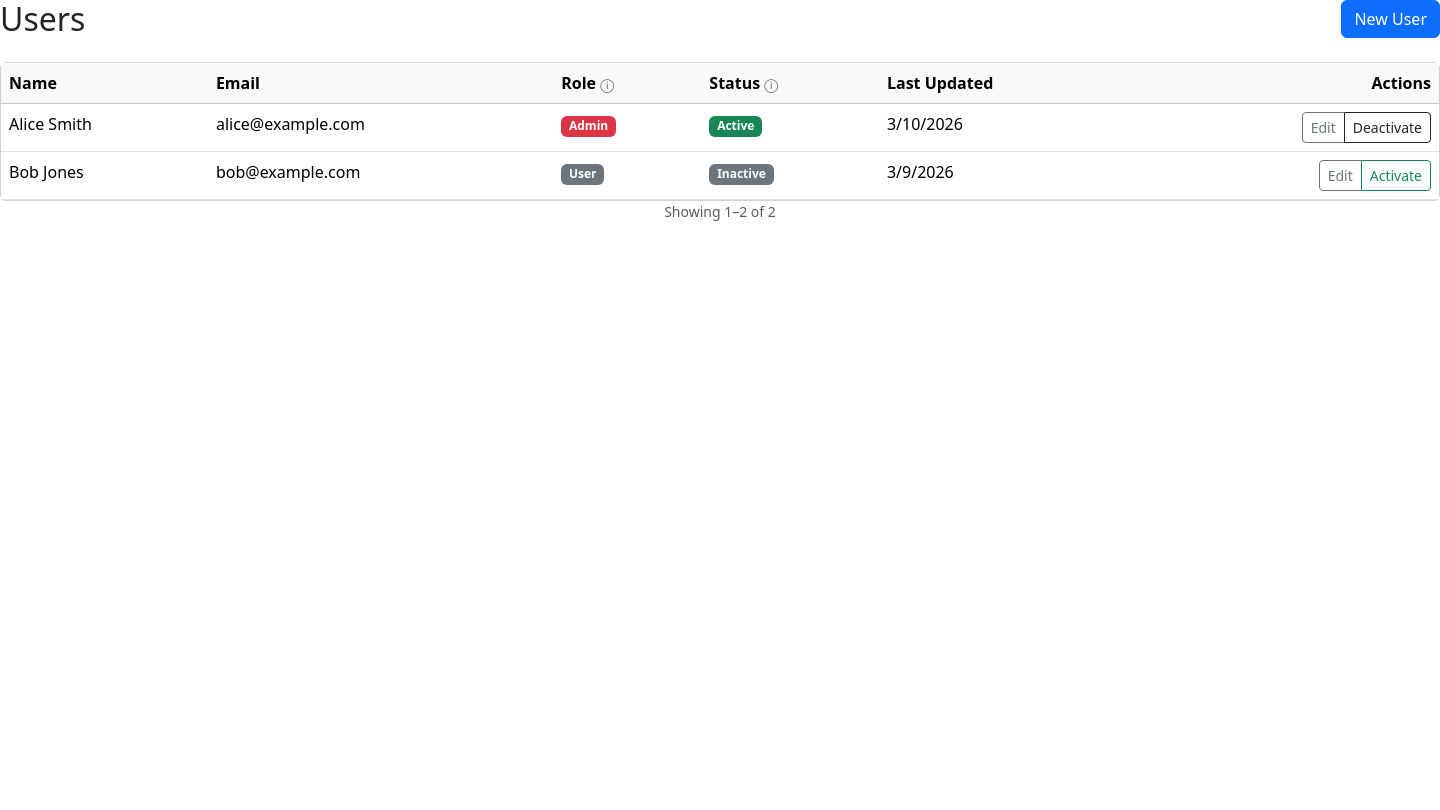
Test: UsersListPage › Actions › opens confirm dialog when Activate is clicked
Click the button "Activate": (1396, 176) [1361, 160, 1431, 191]
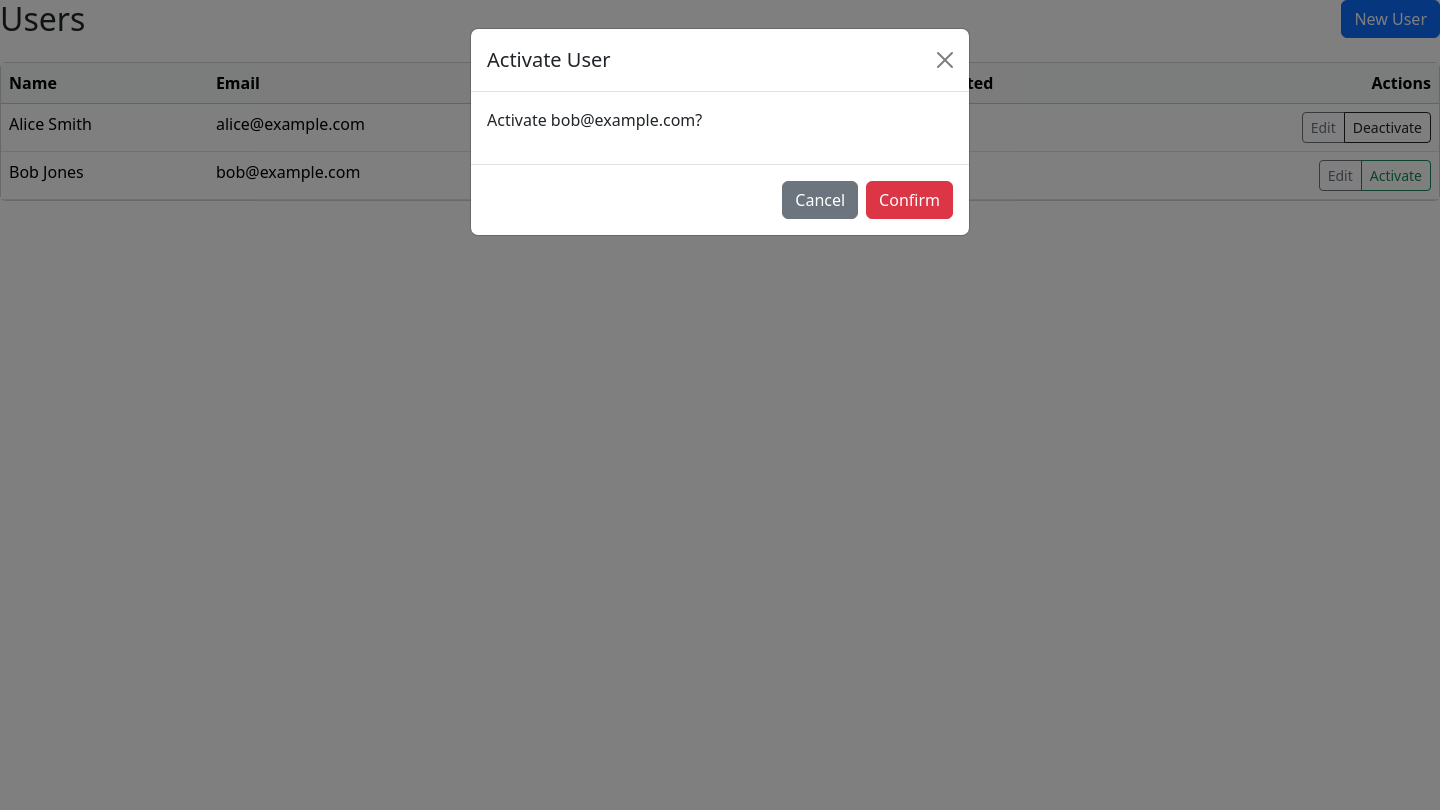
Check: the dialog is shown
Check: the heading "Activate User" is shown, box [487, 45, 611, 75]
